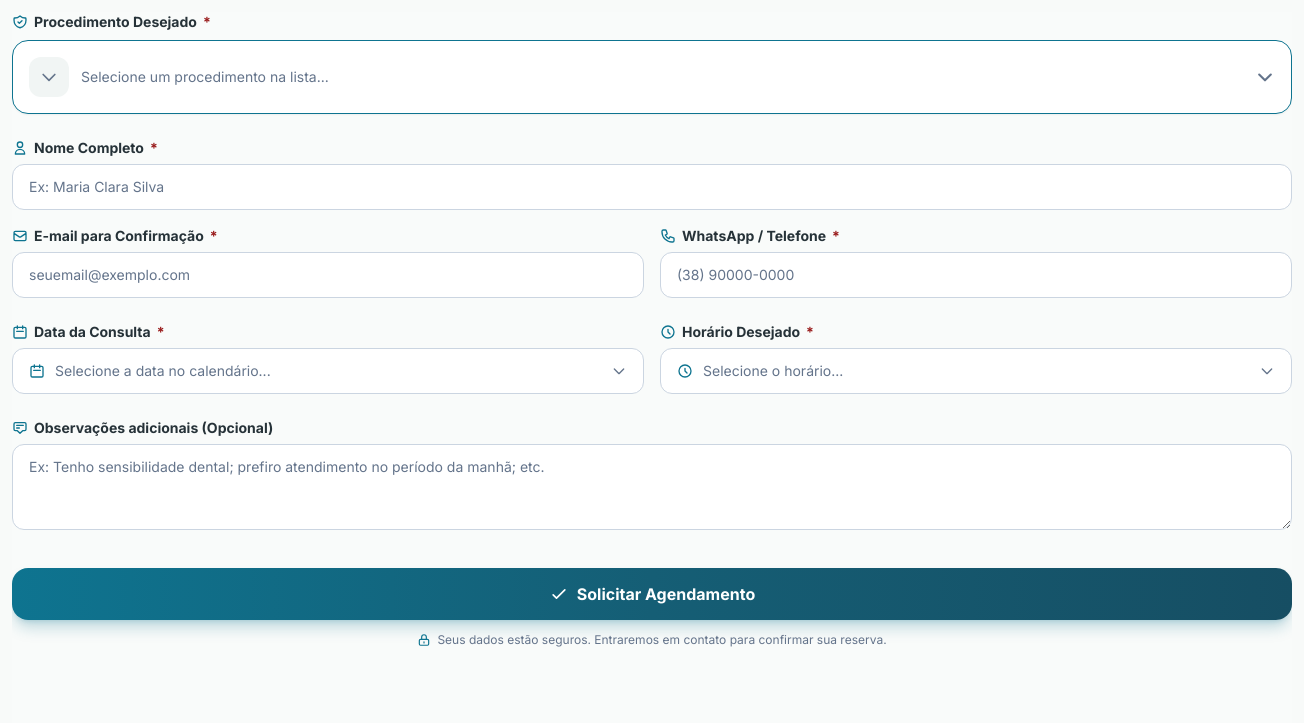
it: AppointmentForm › deve exibir erros de validação ao submeter formulário com campos vazios
The image size is (1304, 723).
What coordinates should you click on to do the following:
click the button "Solicitar Agendamento"
I would click on:
 (652, 594)
Its box is [12,568,1292,620].
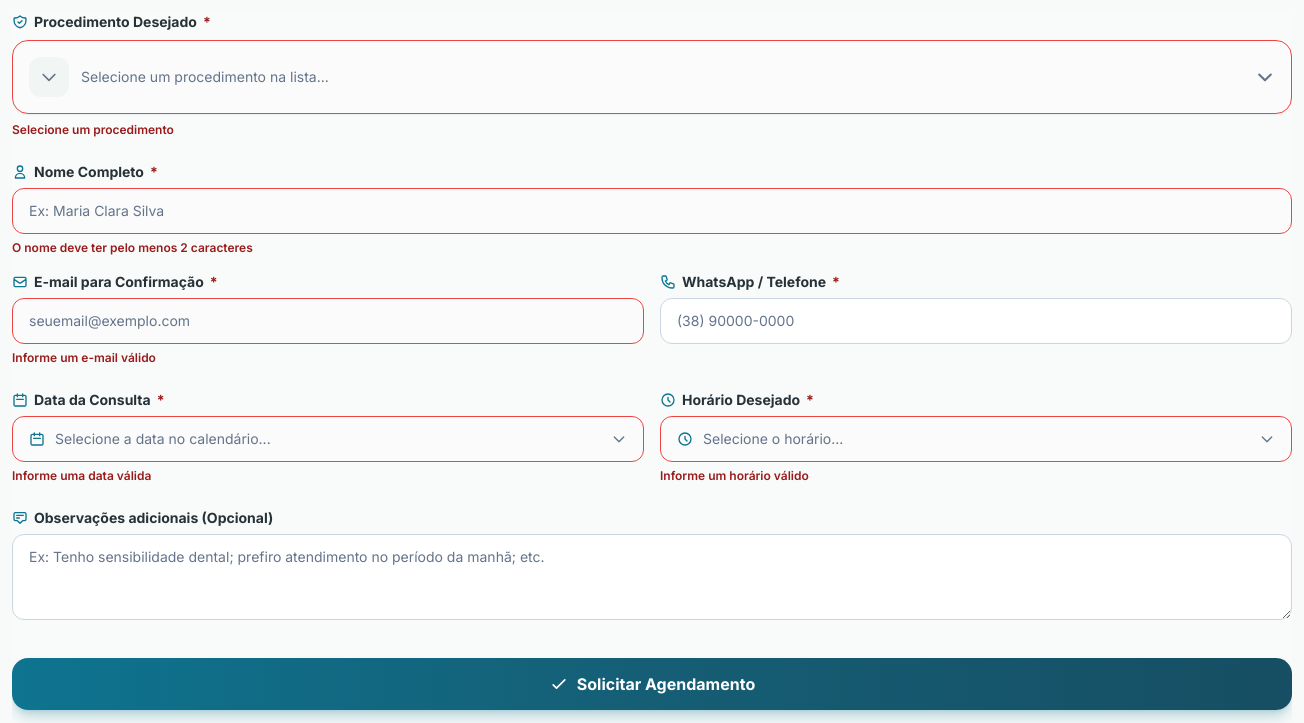
Check: the text "O nome deve ter pelo menos 2 caracteres" is shown, box [12,240,253,255]
Check: the text "Informe um e-mail válido" is shown, box [12,350,156,365]
